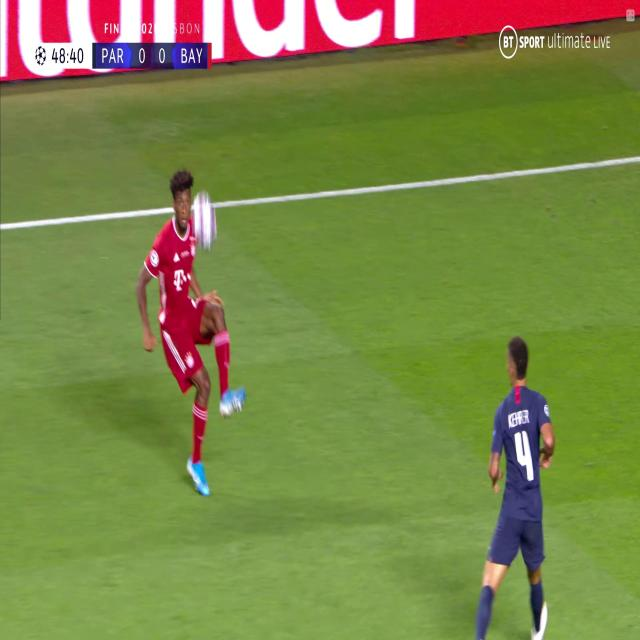ball: (193, 190, 214, 250)
player: (136, 162, 239, 494), (473, 335, 552, 640)
